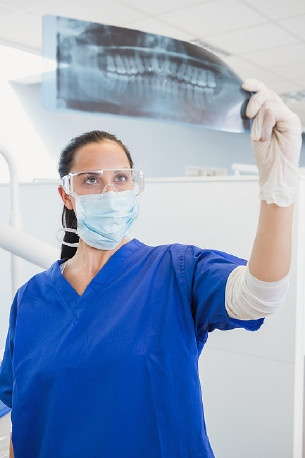Mask: (70, 167, 132, 229)
